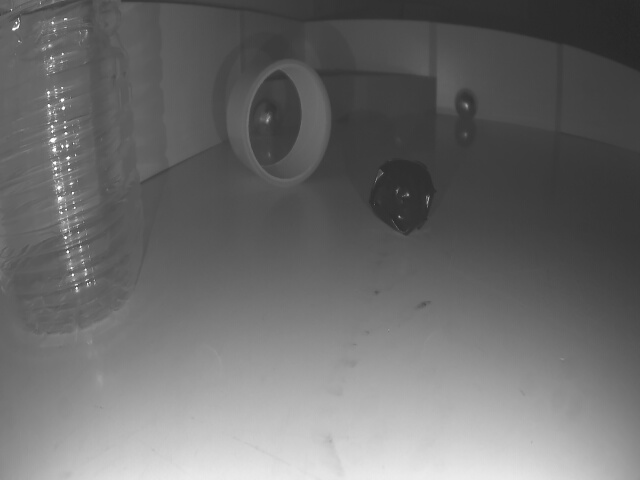Dead: (372, 161, 433, 230)
Live: (255, 105, 281, 137), (454, 90, 475, 122)
Point: (255, 72, 436, 128)
